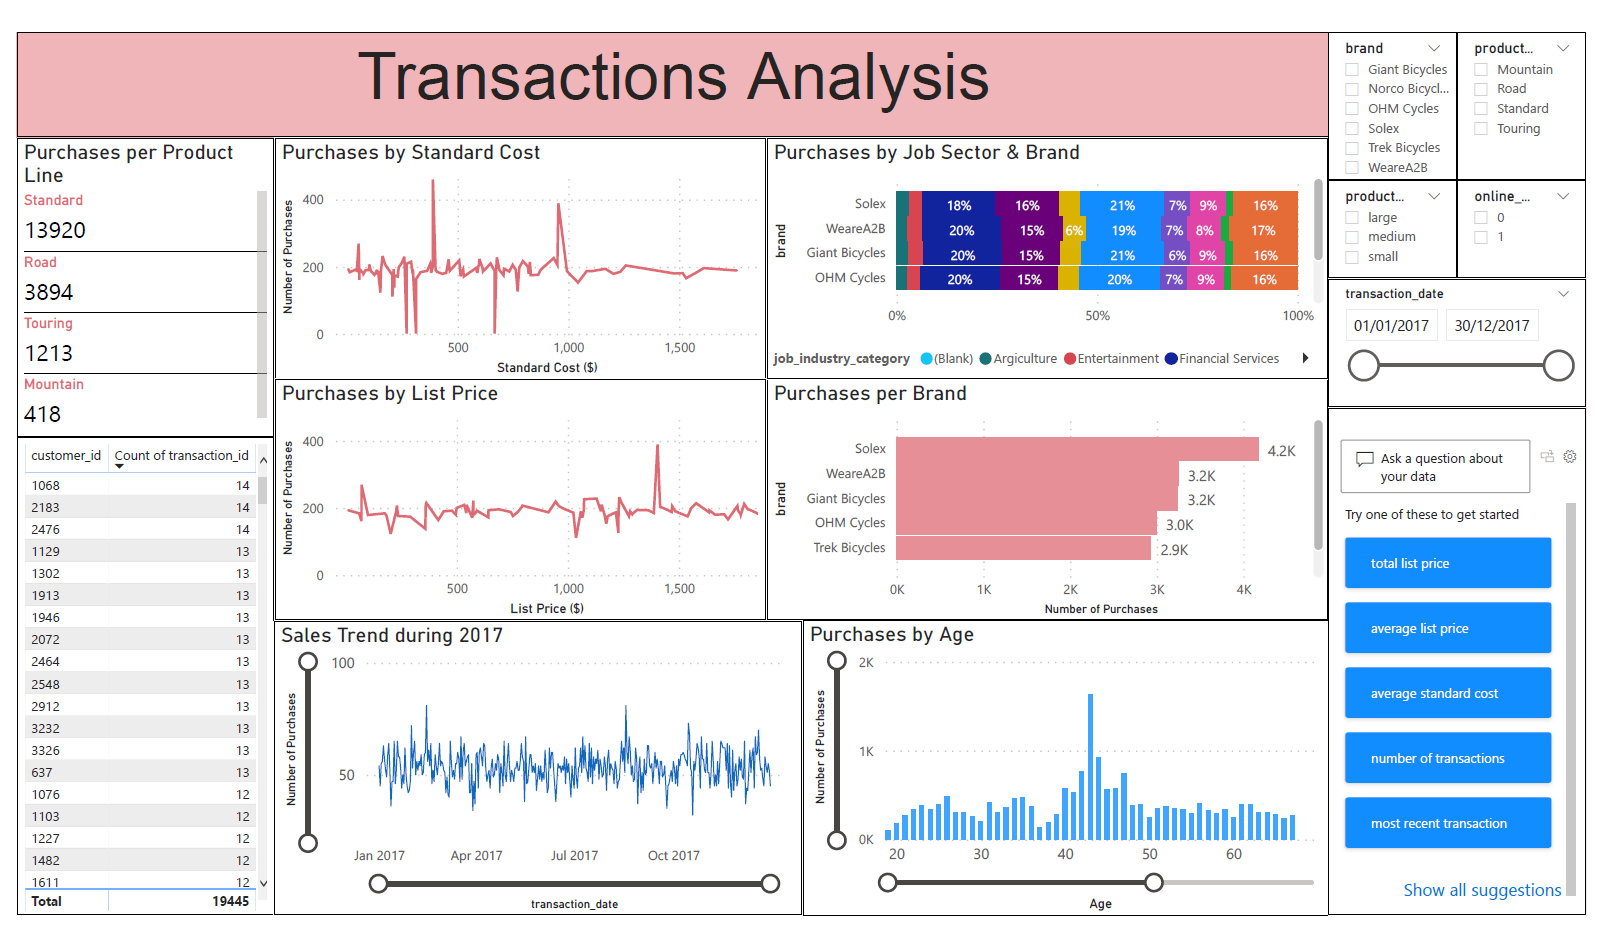

This screenshot's page, from the dashboard's own definition file:
{"tool":"powerbi","page":{"name":"Purchase Analysis","canvas":[1280,720],"ordinal":1},"visuals":[{"type":"multiRowCard","title":"Purchases per Product Line","fields":{"Values":["Transactions.product_line","CountNonNull(Transactions.transaction_id)"]},"box":[0,86.3,210.5,244.1],"z":0},{"type":"textbox","box":[0,0,1069.5,86.3],"z":1},{"type":"clusteredBarChart","title":"Purchases per Brand","fields":{"Category":["Transactions.brand"],"Y":["CountNonNull(Transactions.transaction_id)"]},"box":[611.7,282.9,458,196.7],"z":2},{"type":"lineChart","title":"Purchases by Standard Cost","fields":{"Category":["Transactions.standard_cost"],"Y":["CountNonNull(Transactions.transaction_id)"]},"box":[210.5,86.3,401.1,196.7],"z":3},{"type":"hundredPercentStackedBarChart","title":"Purchases by Job Sector & Brand","fields":{"Category":["Transactions.brand"],"Y":["CountNonNull(Transactions.transaction_id)"],"Series":["CustomerDemographic.job_industry_category"]},"box":[611.5,86.3,458,196.7],"z":4},{"type":"lineChart","title":"Purchases by List Price","fields":{"Y":["CountNonNull(Transactions.transaction_id)"],"Category":["Transactions.list_price"]},"box":[210.6,282.9,401.1,196.7],"z":5},{"type":"columnChart","title":"Purchases by Age","fields":{"Category":["CustomerDemographic.Age"],"Y":["CountNonNull(Transactions.transaction_id)"]},"box":[640.9,479.6,428.7,240.6],"z":6},{"type":"slicer","fields":{"Values":["Transactions.brand"]},"box":[1069.5,0,105.2,120.8],"z":8},{"type":"tableEx","fields":{"Values":["Transactions.customer_id","Transactions.transaction_id"]},"box":[0,330.4,209.6,389.9],"z":10},{"type":"lineChart","title":"Sales Trend during 2017","fields":{"Y":["CountNonNull(Transactions.transaction_id)"],"Category":["Transactions.transaction_date"]},"box":[209.6,480.2,431.3,239.8],"z":11},{"type":"slicer","fields":{"Values":["Transactions.transaction_date"]},"box":[1069.5,201,210.5,105.2],"z":14},{"type":"slicer","fields":{"Values":["Transactions.product_line"]},"box":[1174.8,0,105.2,120.8],"z":15},{"type":"slicer","fields":{"Values":["Transactions.product_size"]},"box":[1069.5,120.8,105.2,80.2],"z":16},{"type":"slicer","fields":{"Values":["Transactions.online_order"]},"box":[1174.8,120.8,105.2,80.2],"z":17},{"type":"qnaVisual","box":[1069.5,306.2,210.5,414],"z":18}]}

Visuals, with their boxes in screenshot pixels (x1, y1, x2, y2):
"Purchases per Product Line" multiRowCard: l=8, t=131, r=268, b=433
textbox: l=8, t=25, r=1328, b=131
"Purchases per Brand" clusteredBarChart: l=763, t=374, r=1328, b=617
"Purchases by Standard Cost" lineChart: l=268, t=131, r=763, b=374
"Purchases by Job Sector & Brand" hundredPercentStackedBarChart: l=763, t=131, r=1328, b=374
"Purchases by List Price" lineChart: l=268, t=374, r=763, b=617
"Purchases by Age" columnChart: l=799, t=617, r=1328, b=913
slicer - Transactions.brand: l=1328, t=25, r=1457, b=174
tableEx - Transactions.customer_id x Transactions.transaction_id: l=8, t=433, r=267, b=914
"Sales Trend during 2017" lineChart: l=267, t=617, r=799, b=913
slicer - Transactions.transaction_date: l=1328, t=273, r=1587, b=403
slicer - Transactions.product_line: l=1457, t=25, r=1587, b=174
slicer - Transactions.product_size: l=1328, t=174, r=1457, b=273
slicer - Transactions.online_order: l=1457, t=174, r=1587, b=273
qnaVisual: l=1328, t=403, r=1587, b=913
